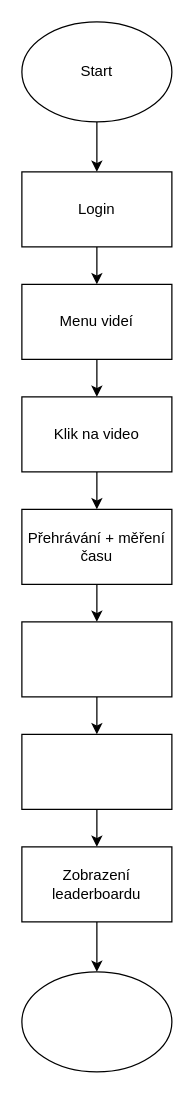
Some shapes in this 194 by 1094 pixel diagram are drawn without their labels. Each missing label, with the centre of its shape:
"Konec" belongs at point 96,1021.
"Stop" belongs at point 96,659.
"Uložení času" belongs at point 96,771.
